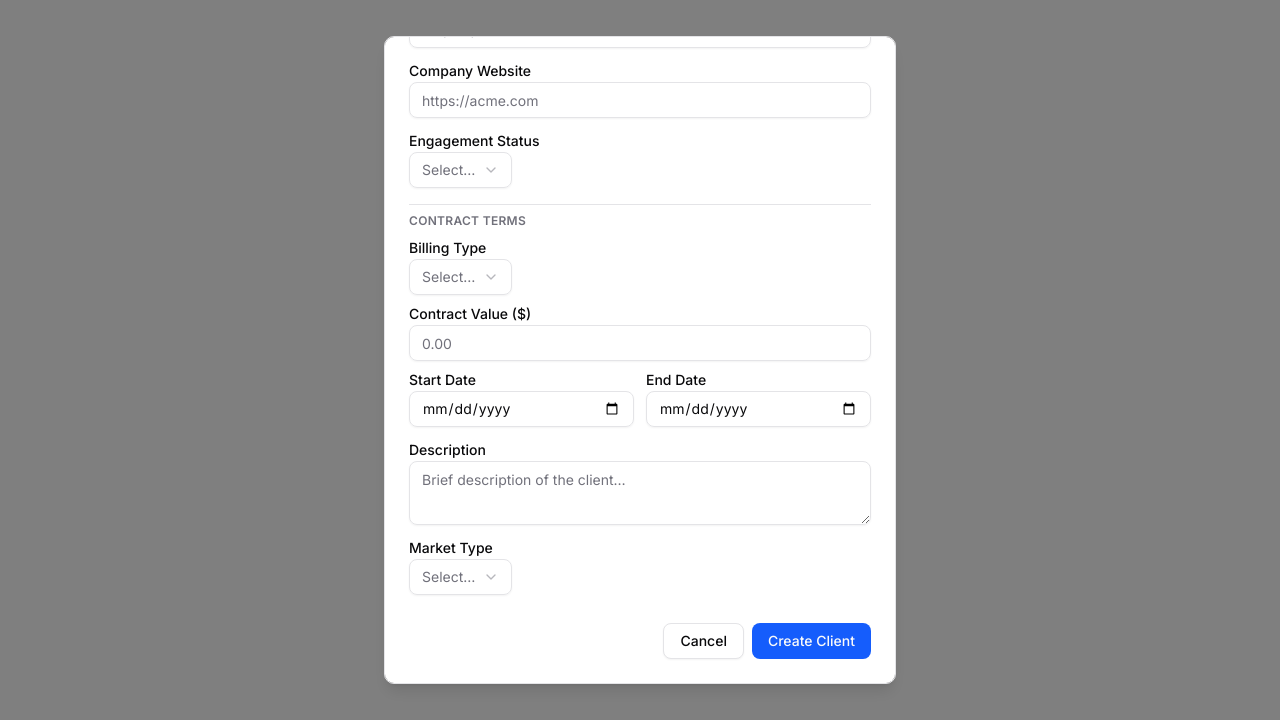
ClientForm — create mode › shows inline error when name is empty on submit
(page scrolled)
Step 1. Click the button "Create Client" → (812, 641), box [752, 623, 871, 659]
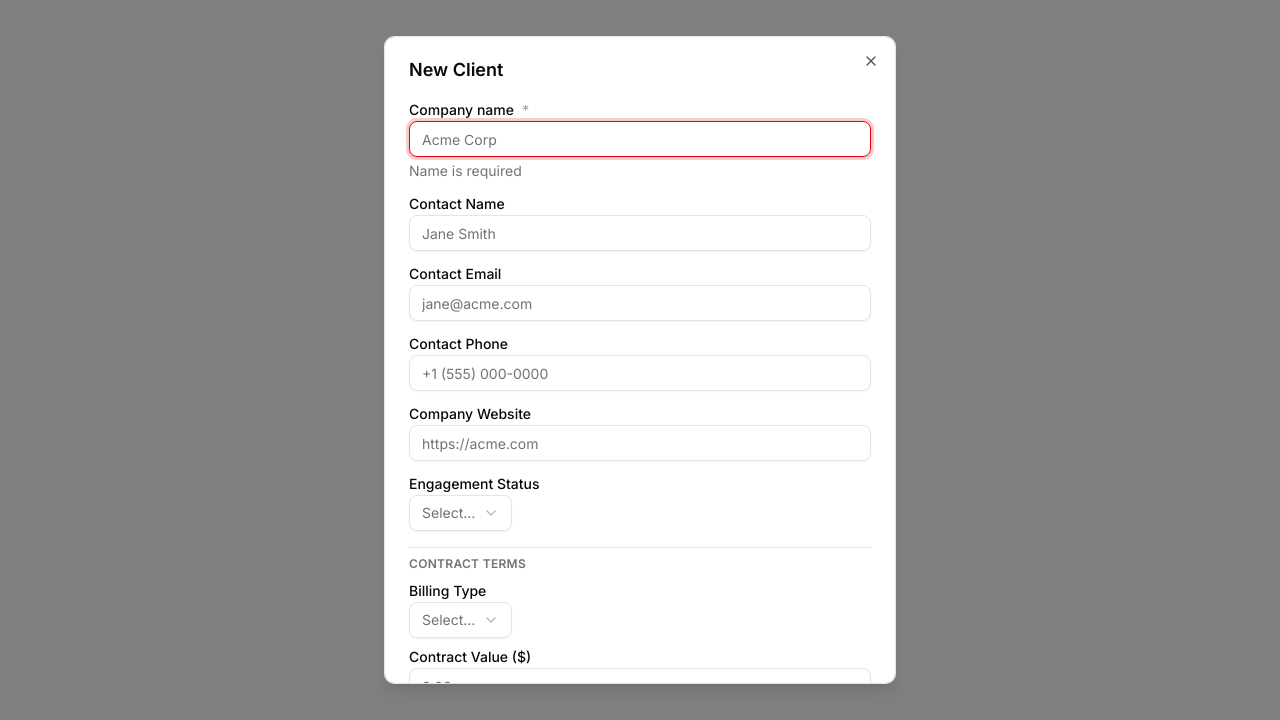
expect the text "Name is required" is shown: met, box [409, 162, 522, 179]
